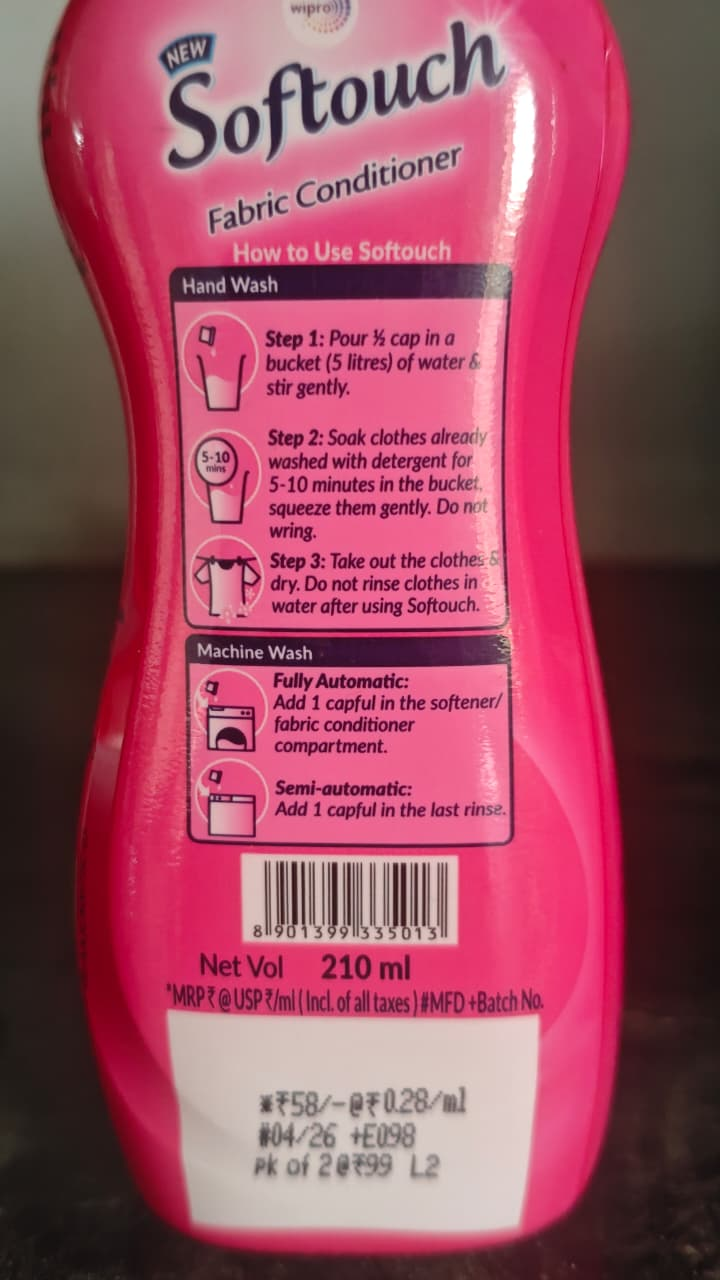Brand: (147, 14, 516, 180)
MFG_Date: (250, 1122, 342, 1154)
MRP: (254, 1078, 328, 1125)
